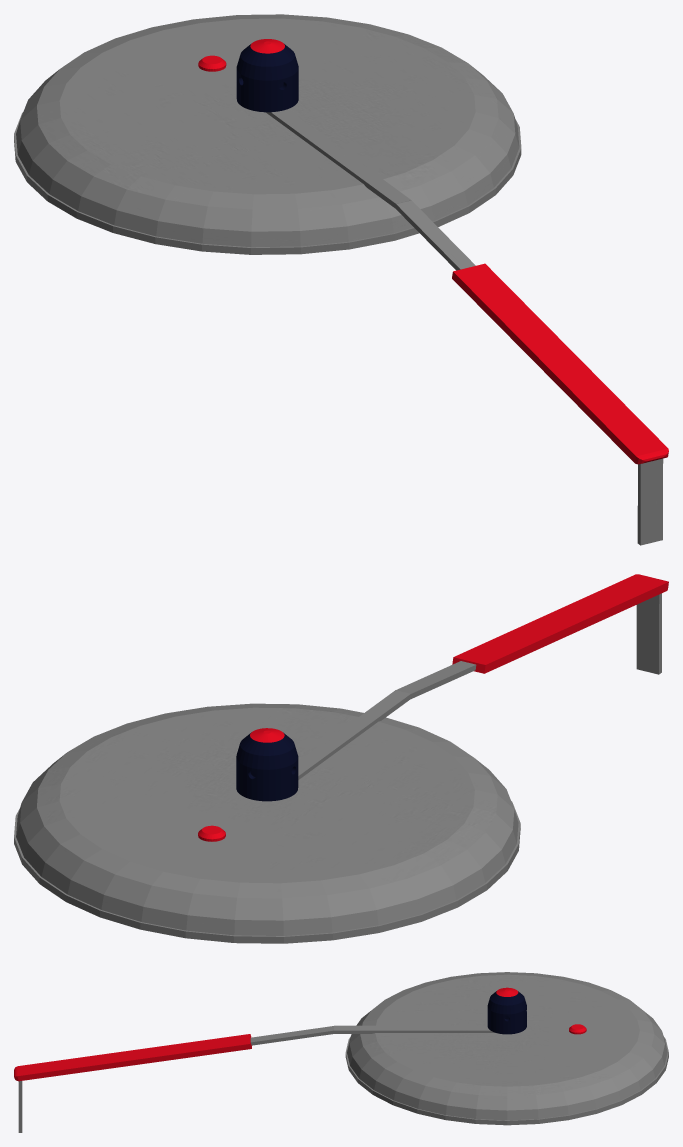
File: PanelaPressaoTampa.fbx
The picture shows the model from 3 angles, top to bottom: view 1: azimuth 30°, elevation 25°; view 2: azimuth 150°, elevation 25°; view 3: azimuth 270°, elevation 25°; orthographic projection. The views are drawn at different scales.
Visible parts, largest first — view 1: Cylinder.003, Cube.005, Cylinder.004, Cube.002, Cube.006, Cube.004; view 2: Cylinder.003, Cube.005, Cylinder.004, Cube.002, Cube.006, Cube.004; view 3: Cylinder.003, Cube.005, Cylinder.004, Cube.002, Cube.004, Cube.006.
Boxes of the visible parts, box(x1,y1,x2,y2) form: Cylinder.003: box(14, 14, 521, 254); Cube.005: box(452, 263, 668, 464); Cylinder.004: box(236, 44, 298, 112); Cube.002: box(266, 109, 411, 208); Cube.006: box(637, 458, 663, 545); Cube.004: box(395, 200, 475, 270); Cylinder.003: box(14, 703, 520, 943); Cube.005: box(452, 574, 668, 673); Cylinder.004: box(236, 732, 298, 801); Cube.002: box(298, 690, 410, 779); Cube.006: box(636, 593, 661, 674); Cube.004: box(396, 661, 476, 698); Cylinder.003: box(345, 972, 668, 1125); Cube.005: box(14, 1034, 251, 1081); Cylinder.004: box(487, 991, 526, 1034); Cube.002: box(334, 1025, 495, 1033); Cube.004: box(250, 1026, 334, 1045); Cube.006: box(18, 1081, 22, 1132).
Size of the model in its own units: 117 by 55.62 by 237.
Materials: 3 (2 with a texture image).
